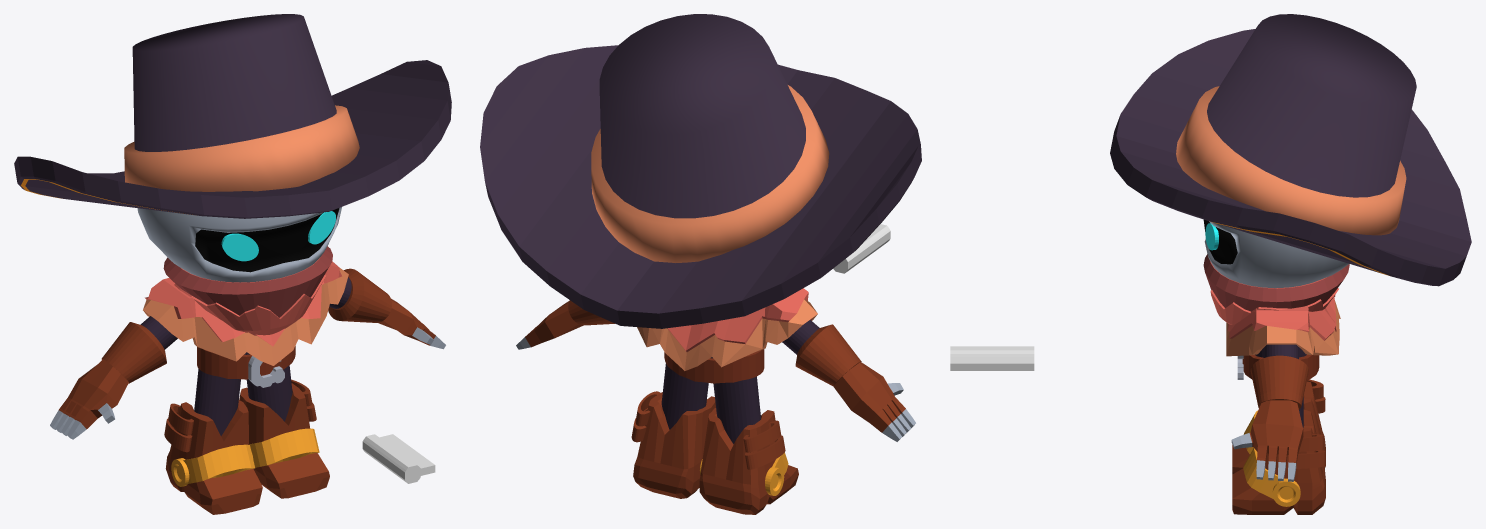
The model's file is cowboy 03.fbx.
3 views of the same model, side by side, from view 1: azimuth 30°, elevation 25°; view 2: azimuth 150°, elevation 25°; view 3: azimuth 270°, elevation 25° (orthographic).
Parts seen in each view (by area): view 1: 主体下, 扣子差集; view 2: 主体下, 扣子差集; view 3: 主体下, 扣子差集.
Boxes of the visible parts, x1,y1,x2,y2 form: 主体下: [14, 14, 451, 514]; 扣子差集: [362, 434, 435, 483]; 主体下: [480, 14, 921, 514]; 扣子差集: [833, 224, 890, 273]; 主体下: [1110, 14, 1471, 514]; 扣子差集: [950, 346, 1034, 370].
Bounding box in the file's own units: 169 × 188 × 194.
